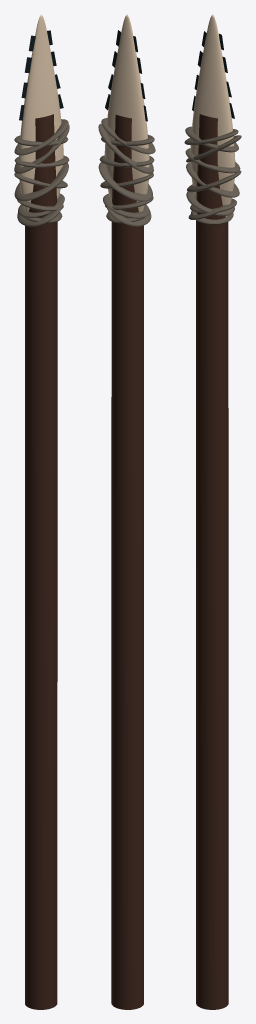
Rendered from sag.fbx.
3 views of the same model, side by side, from view 1: azimuth 30°, elevation 25°; view 2: azimuth 150°, elevation 25°; view 3: azimuth 330°, elevation 25° (orthographic).
Visible parts, largest first — view 1: Cylinder, Cylinder.002, Torus.007, Torus.003, Torus.008, Torus.005, Torus.006, Torus.004, Torus.001, Torus.009, Torus; view 2: Cylinder, Cylinder.002, Torus.007, Torus.008, Torus.003, Torus.004, Torus.005, Torus.006, Torus.001, Torus.009, Torus; view 3: Cylinder, Cylinder.002, Torus.001, Torus.006, Torus, Torus.007, Torus.009, Torus.003, Torus.008, Torus.002, Torus.004, Torus.005.
Boxes of the visible parts, <box> form: Cylinder: <box>25,114,57,1009</box>; Cylinder.002: <box>19,14,63,211</box>; Torus.007: <box>14,162,68,201</box>; Torus.003: <box>14,119,68,155</box>; Torus.008: <box>14,124,69,173</box>; Torus.005: <box>17,196,62,226</box>; Torus.006: <box>14,155,69,167</box>; Torus.004: <box>18,193,64,217</box>; Torus.001: <box>14,173,67,188</box>; Torus.009: <box>14,135,68,146</box>; Torus: <box>17,199,63,211</box>; Cylinder: <box>111,114,143,1009</box>; Cylinder.002: <box>104,14,149,211</box>; Torus.007: <box>98,162,152,201</box>; Torus.008: <box>98,123,153,173</box>; Torus.003: <box>101,118,155,154</box>; Torus.004: <box>103,193,149,218</box>; Torus.005: <box>106,196,151,226</box>; Torus.006: <box>99,155,154,167</box>; Torus.001: <box>100,173,153,188</box>; Torus.009: <box>101,134,154,145</box>; Torus: <box>105,197,153,209</box>; Cylinder: <box>196,114,228,1009</box>; Cylinder.002: <box>190,14,235,216</box>; Torus.001: <box>186,162,239,197</box>; Torus.006: <box>185,148,240,173</box>; Torus: <box>186,191,234,215</box>; Torus.007: <box>187,170,241,192</box>; Torus.009: <box>185,126,238,152</box>; Torus.003: <box>184,129,238,145</box>; Torus.008: <box>186,135,241,162</box>; Torus.002: <box>191,210,233,224</box>; Torus.004: <box>190,198,236,213</box>; Torus.005: <box>188,200,232,219</box>.
Bounding box in the file's own units: 104 × 1822 × 82.97.
